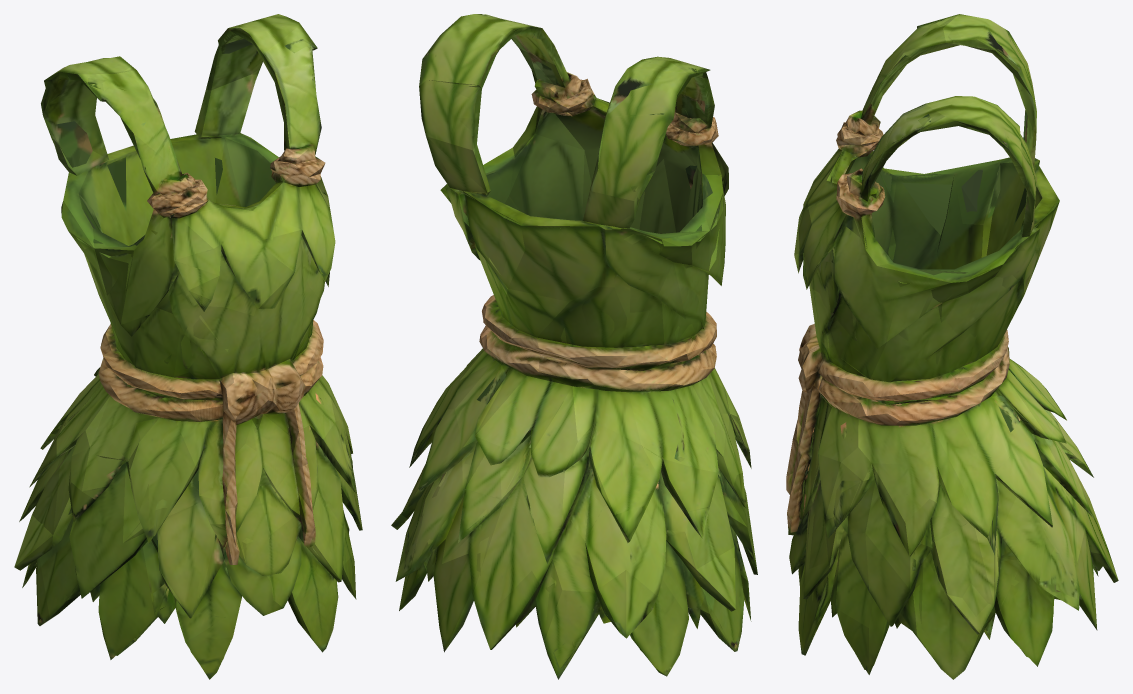
Rendered from Tenue 1.glb.
3 views of the same model, side by side, from view 1: azimuth 30°, elevation 25°; view 2: azimuth 150°, elevation 25°; view 3: azimuth 270°, elevation 25° (orthographic). The views are drawn at different scales.
Parts seen in each view (by area): view 1: output_unwrapped; view 2: output_unwrapped; view 3: output_unwrapped.
Part boxes in pixels (box(x1,y1,x2,y2)): output_unwrapped: box(14, 14, 362, 679); output_unwrapped: box(391, 14, 757, 679); output_unwrapped: box(786, 14, 1118, 679).
Size of the model in its own units: 1.15 by 1.89 by 1.02.
Materials: 1 (1 with a texture image).
